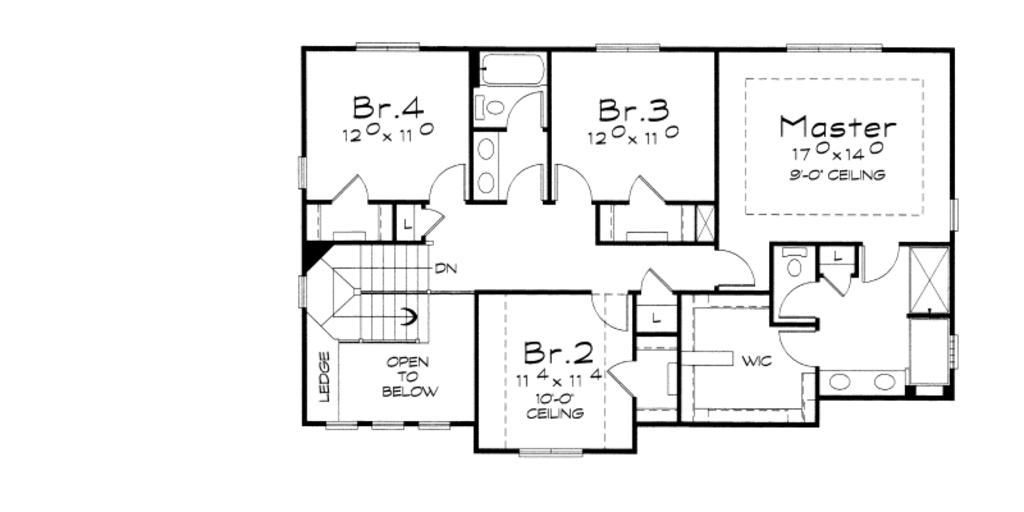door: (424, 158, 475, 211), (713, 242, 759, 294), (589, 287, 633, 341), (855, 240, 901, 289), (501, 161, 550, 205), (504, 87, 549, 134), (776, 322, 820, 370), (552, 159, 595, 208), (775, 280, 820, 319), (330, 174, 378, 205), (628, 167, 665, 207), (632, 263, 673, 299), (607, 355, 641, 398), (413, 201, 446, 244), (820, 267, 857, 302)
large_sink: (470, 84, 508, 125), (778, 240, 812, 278)
small_sink: (474, 130, 507, 203), (823, 367, 903, 396)
stairs: (308, 243, 443, 349)
tub: (480, 45, 548, 84)
window: (784, 37, 885, 55), (593, 36, 664, 55), (354, 35, 420, 55), (516, 444, 589, 461), (943, 189, 966, 237), (293, 150, 314, 194), (324, 415, 360, 432), (418, 415, 454, 432), (298, 270, 312, 309), (373, 415, 402, 433)
